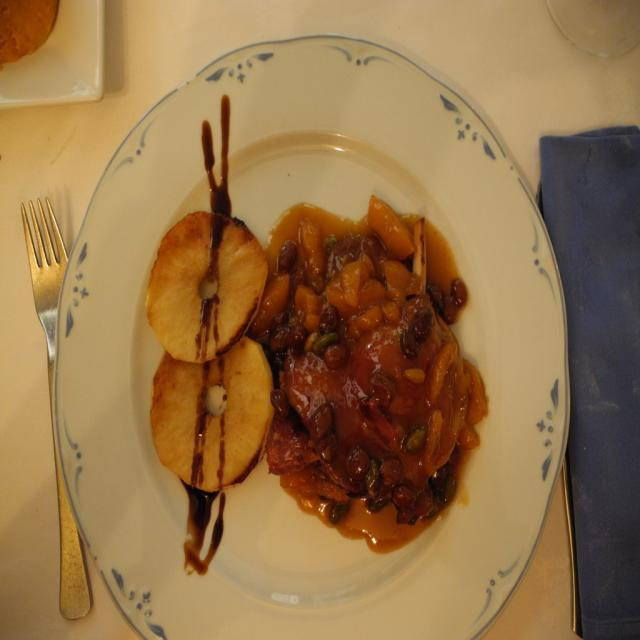Pancake: (0, 0, 57, 63)
